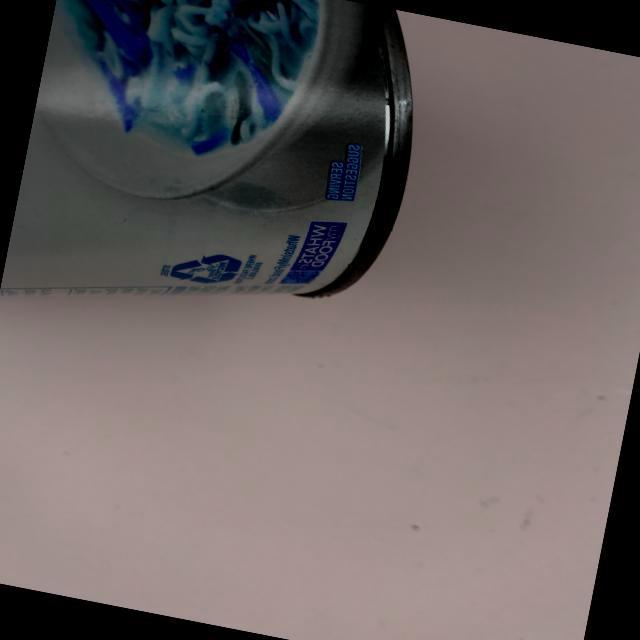metal: (0, 0, 466, 377)
